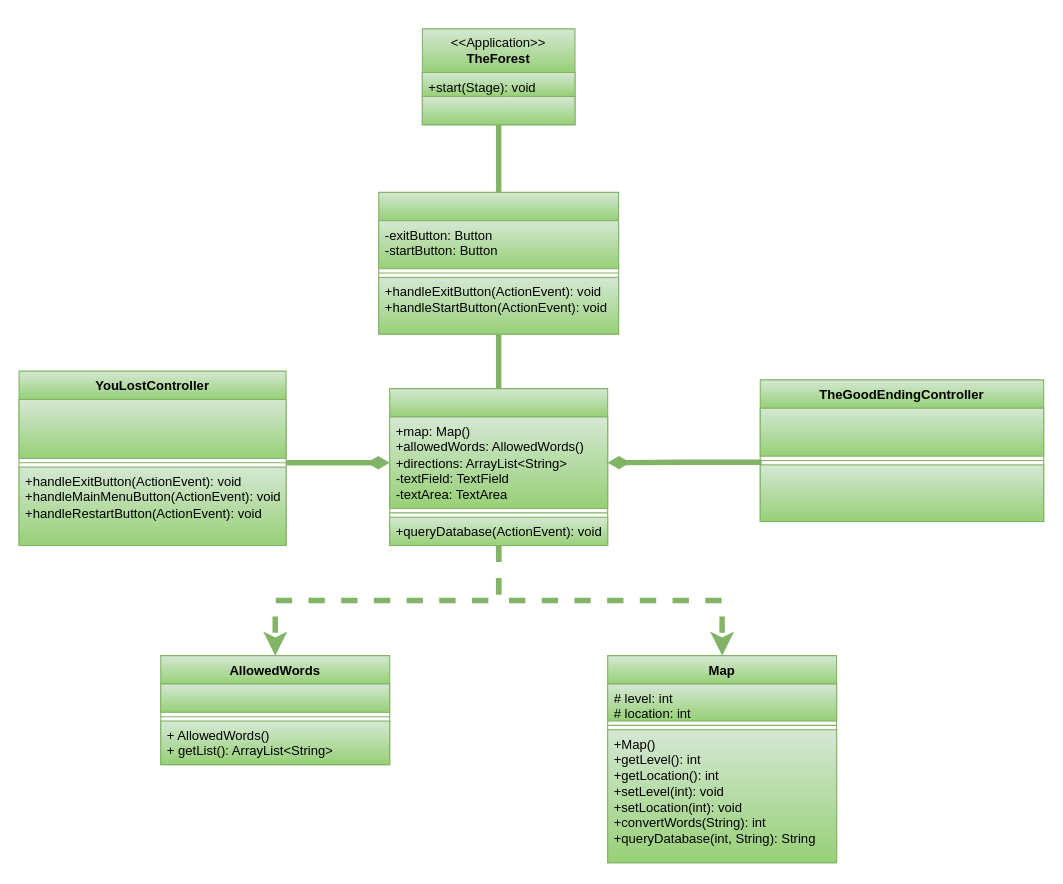
This 1063x884 diagram has some shape labels left out. The shapes that lost their labels are listed below. From the top down, each one's box as (x1, y1, x2, y2) in pixels, then its label:
(421, 95, 575, 125): +main(String[]): void
(378, 191, 619, 334): MainMenuController
(18, 398, 286, 458): -exitButton: Button -mainMenuButton: Button -restartButton: Button
(759, 407, 1044, 456): -exitButton: Button -mainMenuButton: Button
(389, 387, 608, 546): SceneOneController
(759, 464, 1044, 522): +handleExitButton(ActionEvent): void +handleMainMenuButton(ActionEvent): void
(160, 683, 390, 712): - allowedWords: ArrayList<String>
